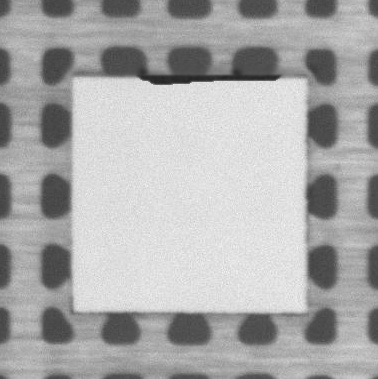DIE_BROKEN: (132, 72, 283, 88)
